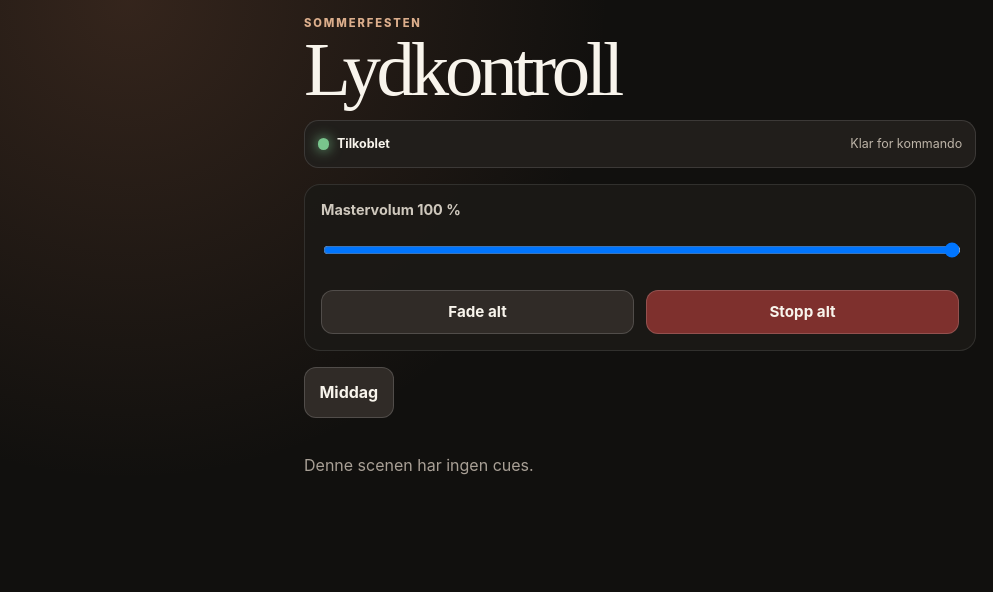
Test: keeps master volume draggable and coalesces changes while awaiting acknowledgement
The image size is (993, 592).
Set the slider labelled "Mastervolum" to "0.8". click: [829, 250]
box: left=323, top=226, right=961, bottom=274
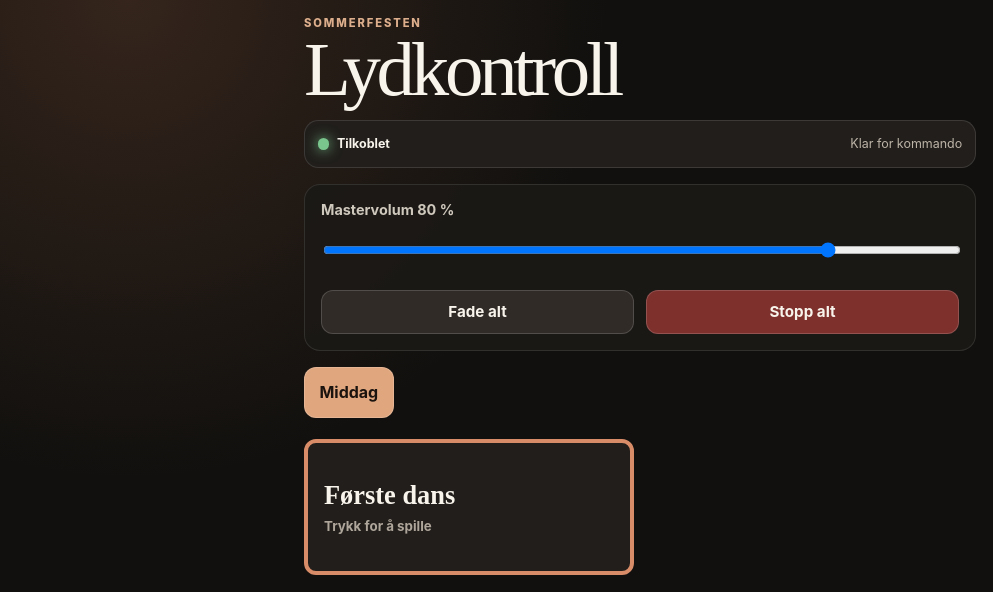
Set the slider labelled "Mastervolum" to "0.6". click: [704, 250]
box: left=323, top=226, right=961, bottom=274
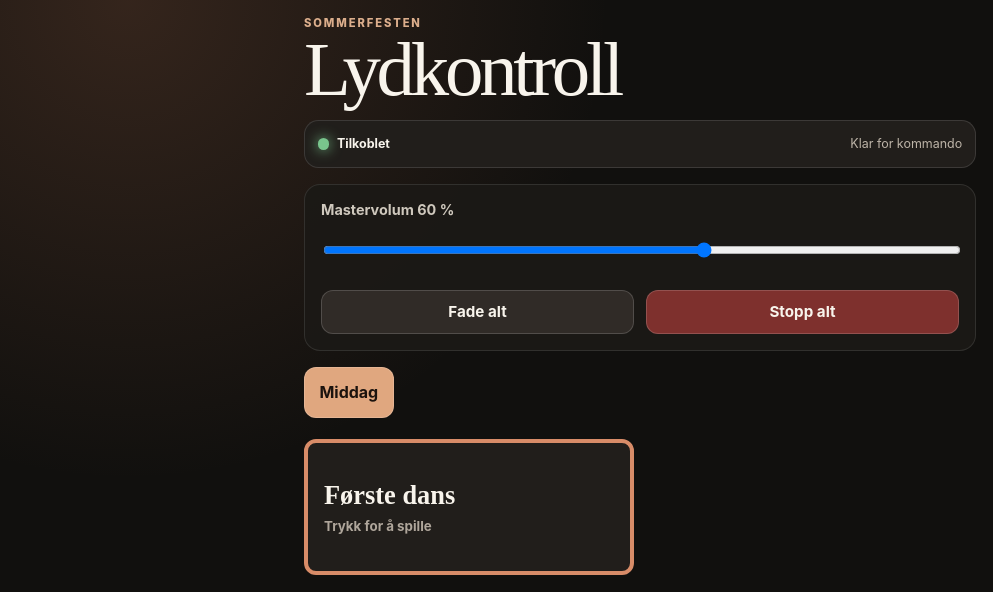
Set the slider labelled "Mastervolum" to "0.4". click: [580, 250]
box: left=323, top=226, right=961, bottom=274
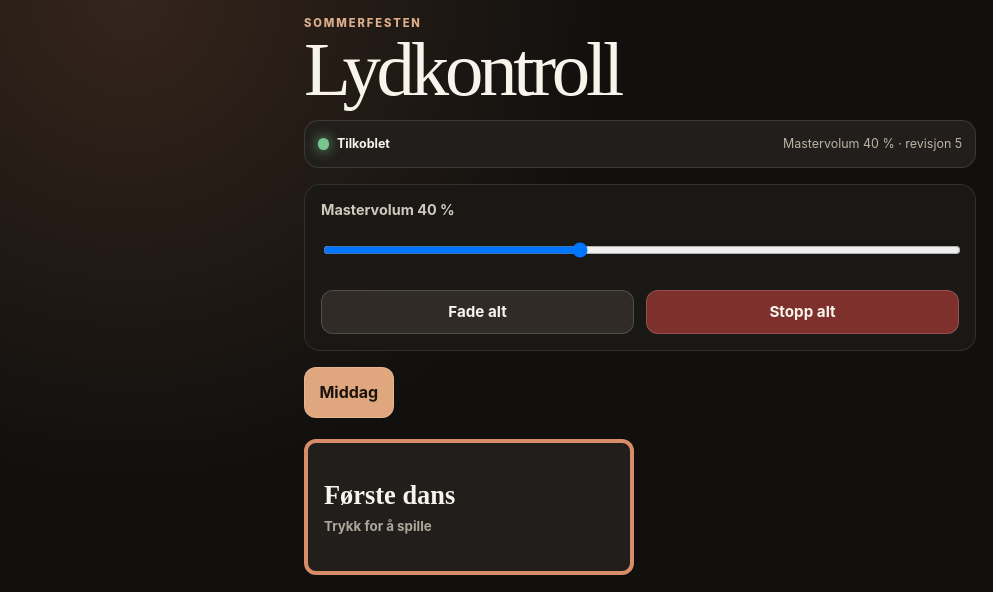
Result: the text "Mastervolum 40 % · revisjon 5" is shown at left=783, top=136, right=962, bottom=151
